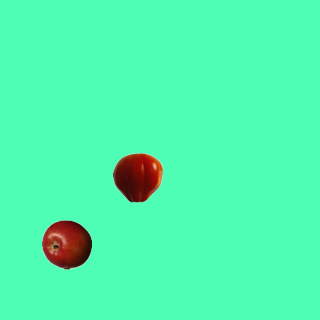Apple Braeburn: (41, 219, 91, 269)
Tomato 1: (112, 152, 162, 202)
